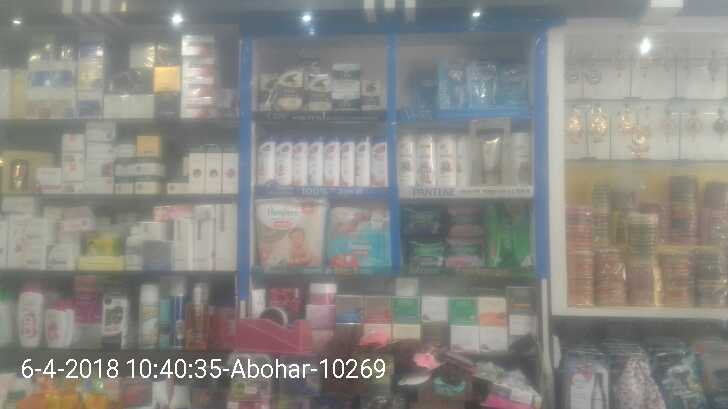venus: (468, 58, 496, 108), (498, 61, 527, 109), (438, 57, 465, 107), (415, 66, 434, 107)
